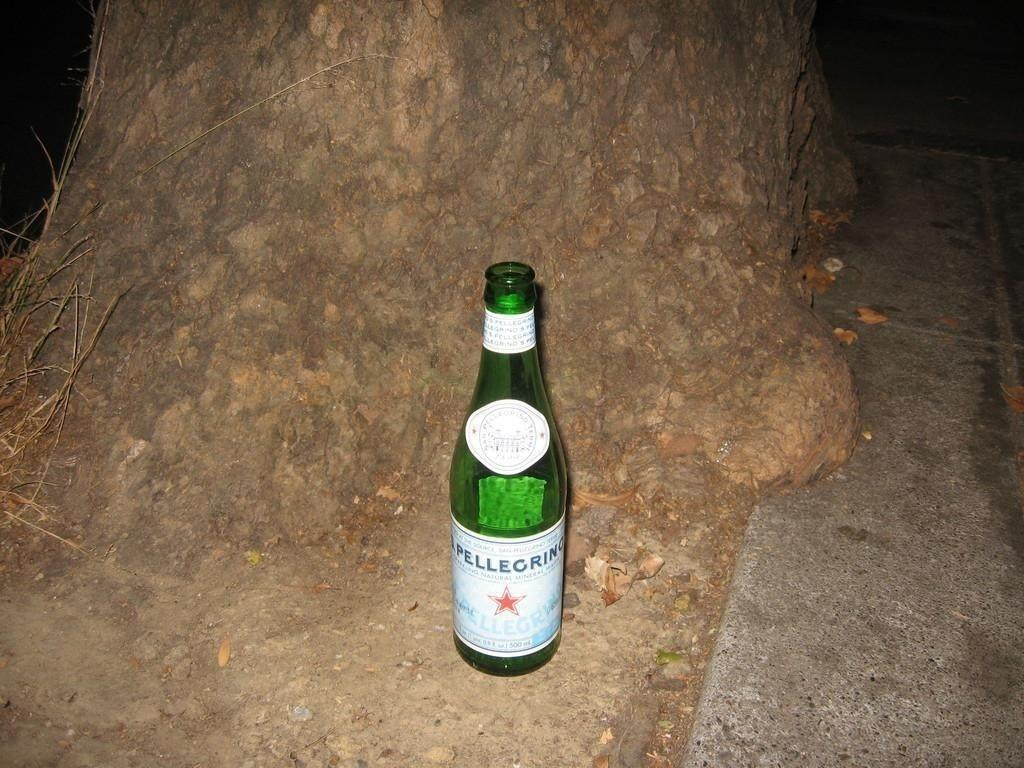bottle-glass: (443, 261, 575, 677)
